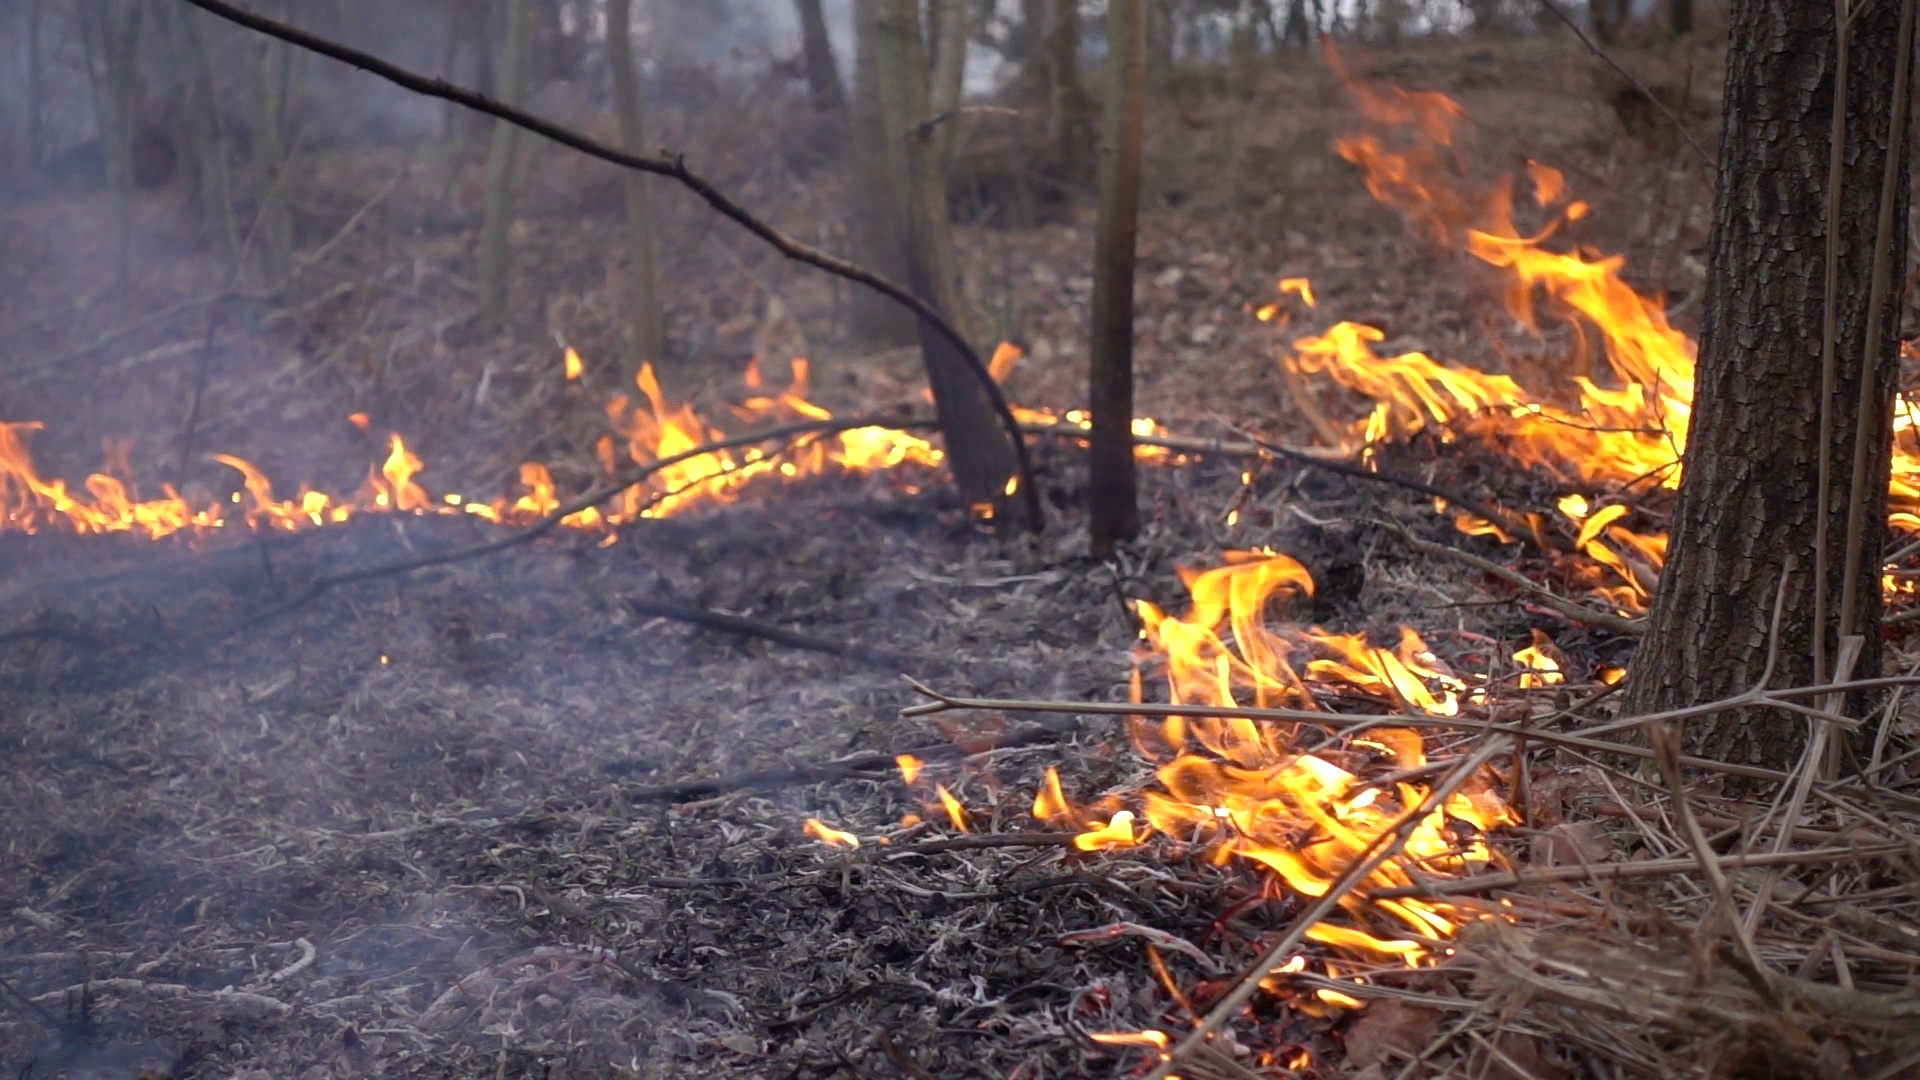fire: (1043, 564, 1507, 986), (1284, 193, 1693, 541), (603, 367, 915, 516), (13, 433, 429, 527), (1896, 393, 1920, 518)
